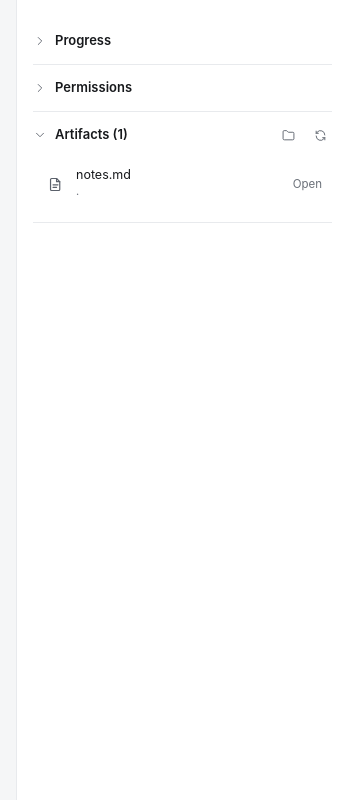
Scenario: artifact preview › renders a Markdown file as formatted text
The width and height of the screenshot is (348, 800).
Click the button "notes.md · Open": (103, 174) [33,157,332,211]
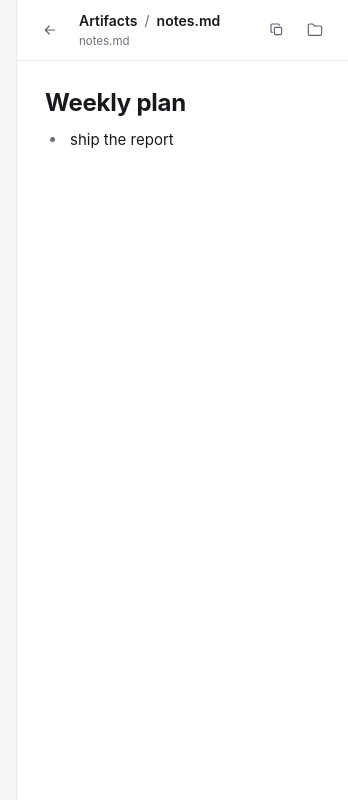
Expected: the heading "Weekly plan" is shown, [45,88,186,117]
Expected: the list item "ship the report" is shown, [70,130,174,149]
